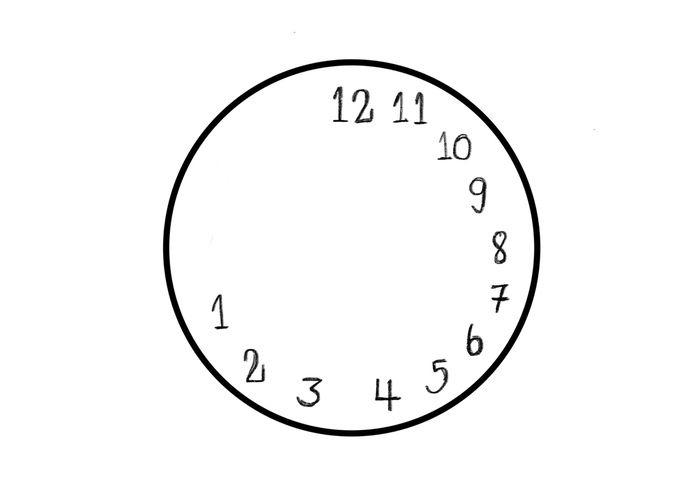eight: (488, 226, 509, 267)
eleven: (390, 86, 430, 130)
five: (423, 358, 451, 395)
four: (366, 368, 403, 414)
nine: (463, 171, 492, 213)
one: (207, 285, 232, 337)
seven: (488, 278, 511, 316)
six: (461, 322, 487, 359)
ten: (435, 126, 475, 165)
three: (292, 372, 324, 410)
twelve: (328, 83, 378, 127)
two: (239, 345, 267, 386)
